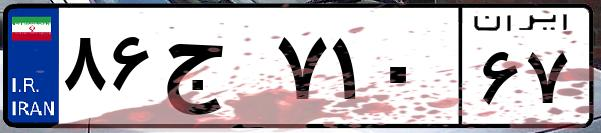0: (385, 28, 445, 110)
1: (330, 28, 385, 110)
6: (475, 38, 525, 113), (110, 28, 158, 98)
7: (270, 28, 330, 110), (525, 38, 570, 115)
8: (57, 26, 110, 100)
ج: (158, 20, 270, 120)
